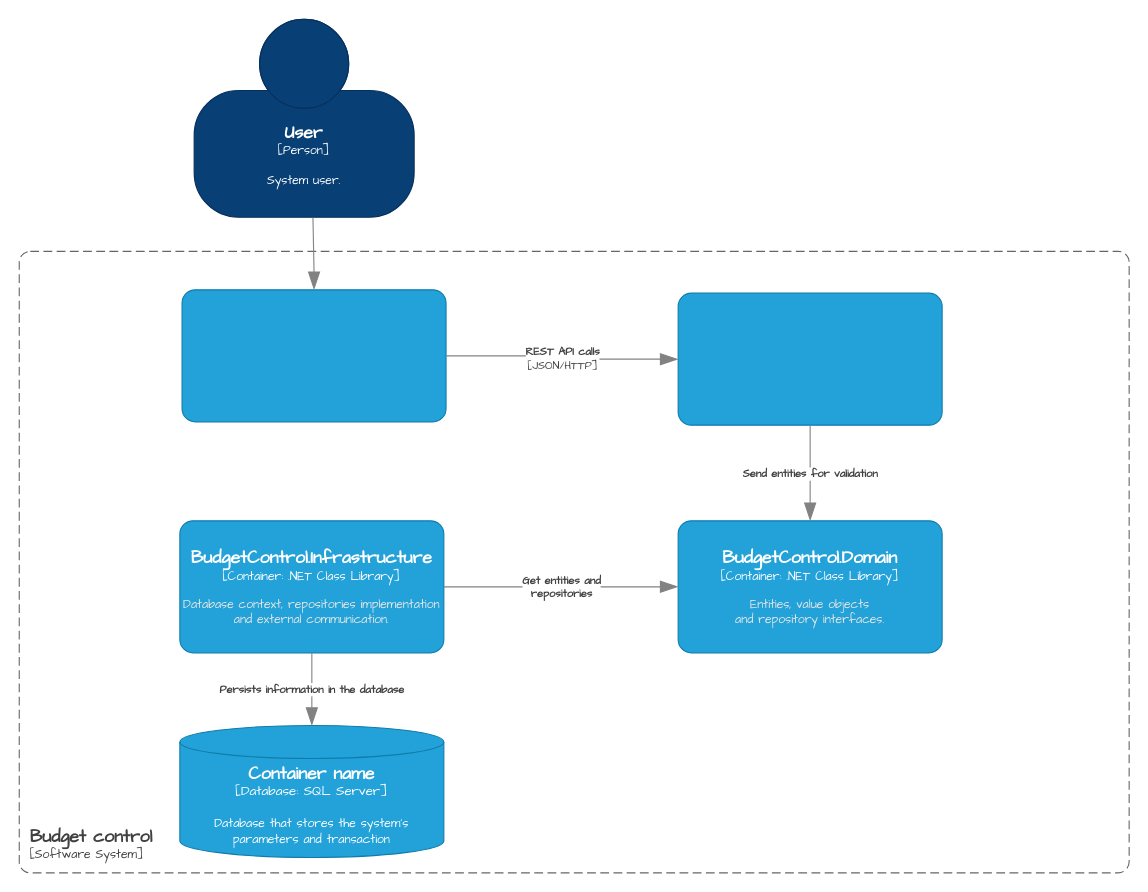
Some shapes in this 1148 by 892 pixel diagram are drawn without their labels. The centre of each missing label's shape, as x and y in pixels:
"BudgetControl.API [Container: .NET API] System orchestration" belongs at [809,358].
"BudgetControl.UI [Container: .NET Blazor] System user interfaces." belongs at [313,355].
